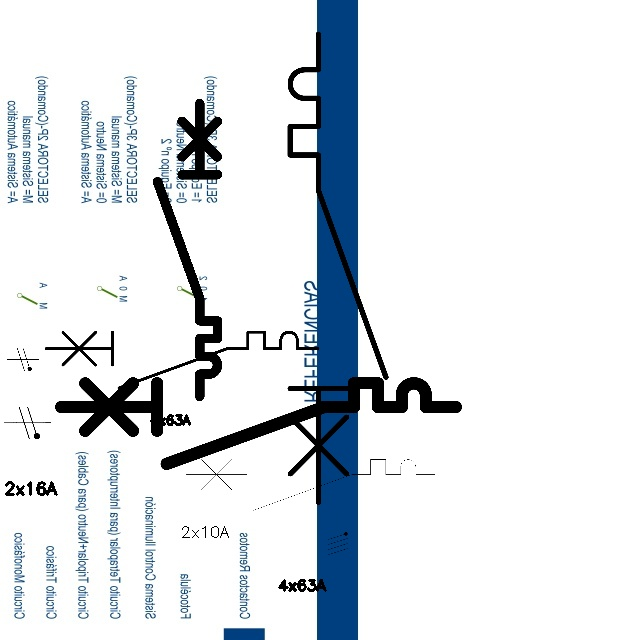interruptor_termomagnetico: (278, 22, 398, 514), (50, 373, 465, 474), (150, 96, 225, 404), (39, 325, 325, 395), (180, 453, 441, 516)
